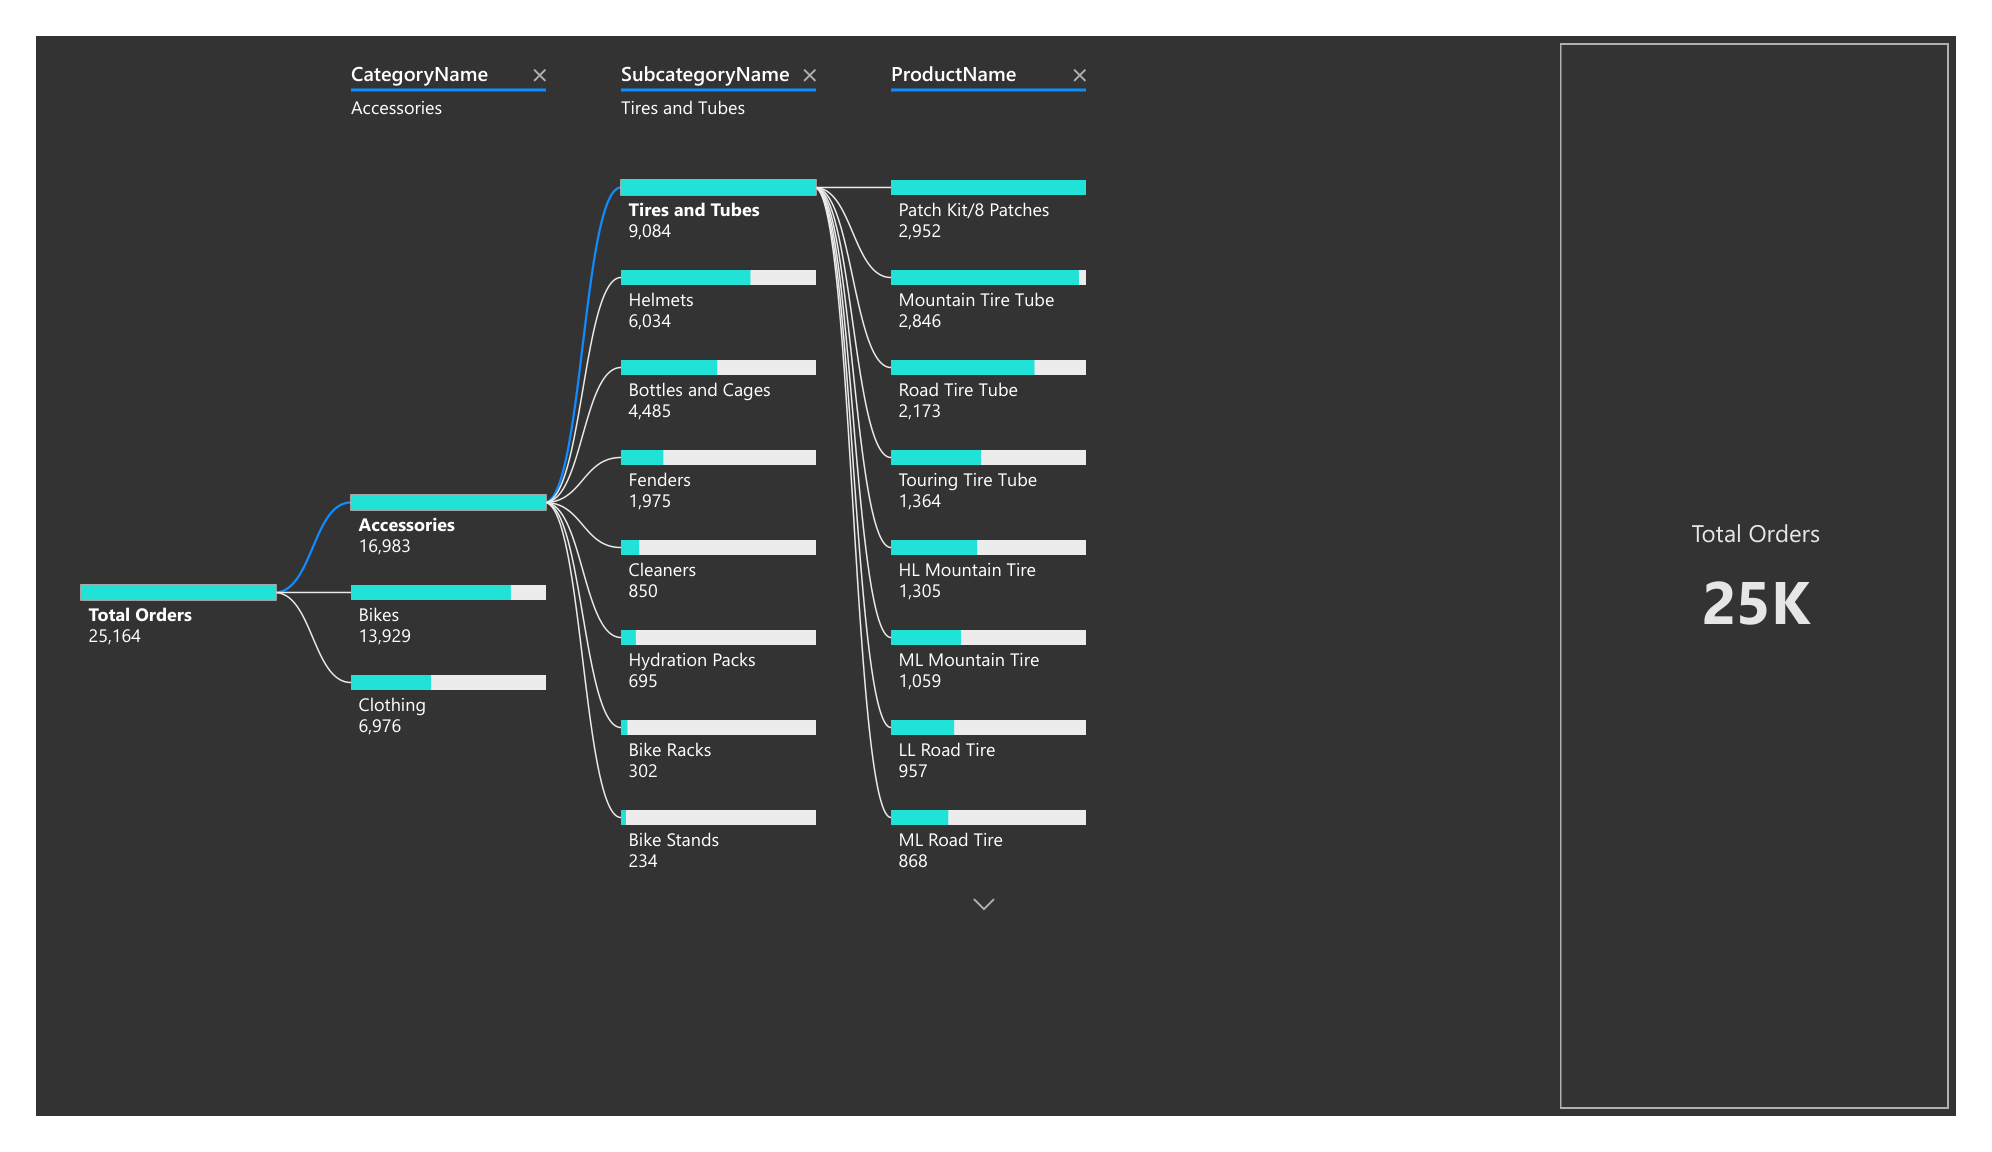

The page's visual inventory and layout, read from the dashboard file:
{"tool":"powerbi","page":{"name":"Decomposition Tree","canvas":[1280,720],"ordinal":6},"visuals":[{"type":"decompositionTreeVisual","fields":{"Analyze":["Measure Table.Total Orders"],"ExplainBy":["Product Categories Lookup.CategoryName","Product Subcategories Lookup.SubcategoryName","Product Lookup.ProductName"]},"box":[0,0,1280,720],"z":0},{"type":"cardVisual","fields":{"Data":["Measure Table.Total Orders"]},"box":[1011.2,0,268.8,720],"z":2000}]}

Visuals, with their boxes in screenshot pixels (x1, y1, x2, y2), scaled from the page's 1280x720 canvas onto the 1992x1152 screenshot:
decompositionTreeVisual - Measure Table.Total Orders x Product Categories Lookup.CategoryName: (0,0,1991,1151)
cardVisual - Measure Table.Total Orders: (1574,0,1991,1151)
